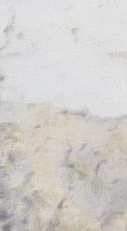Spalling: (1, 100, 127, 231)
